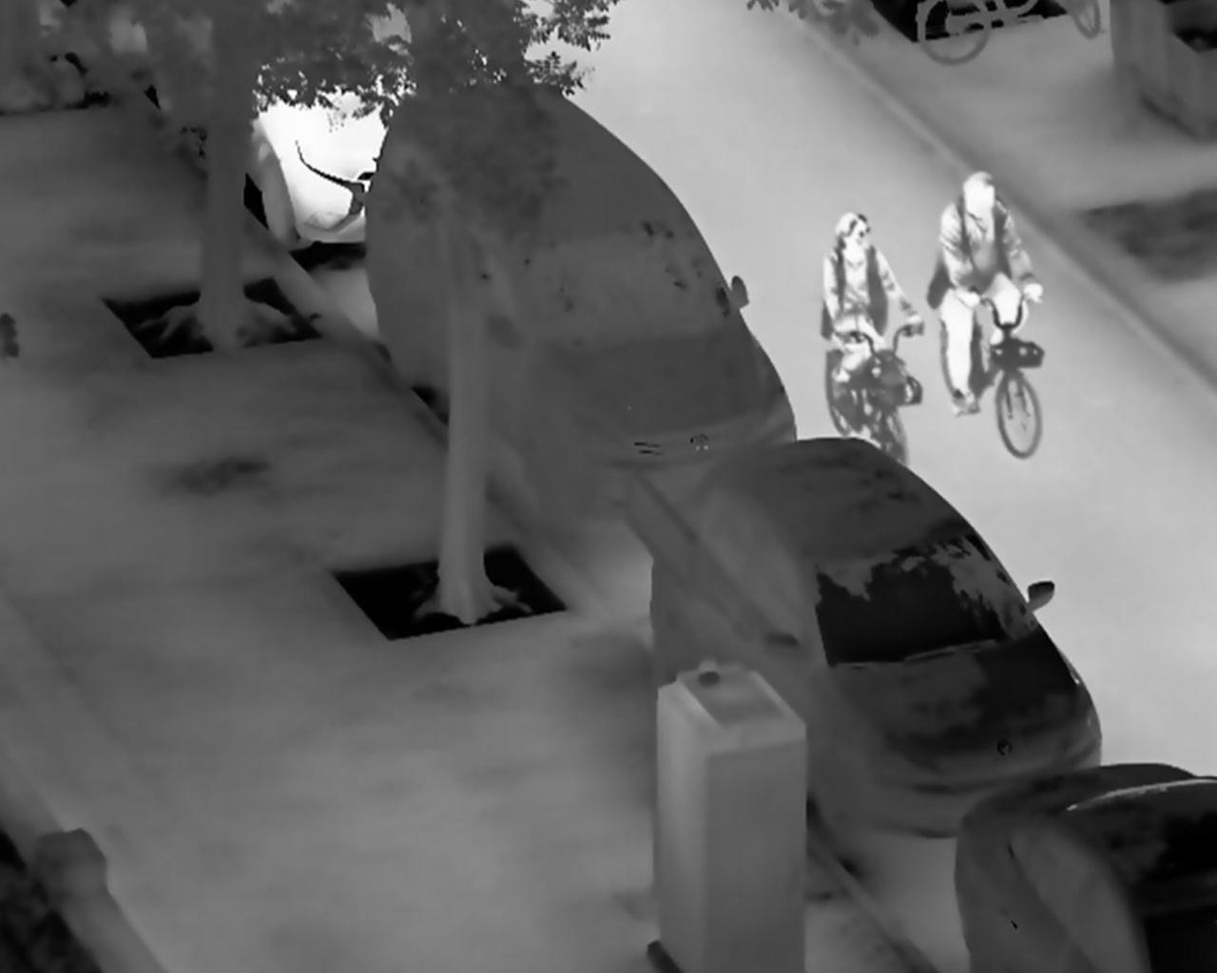person: (936, 170, 1048, 419), (819, 211, 926, 434)
